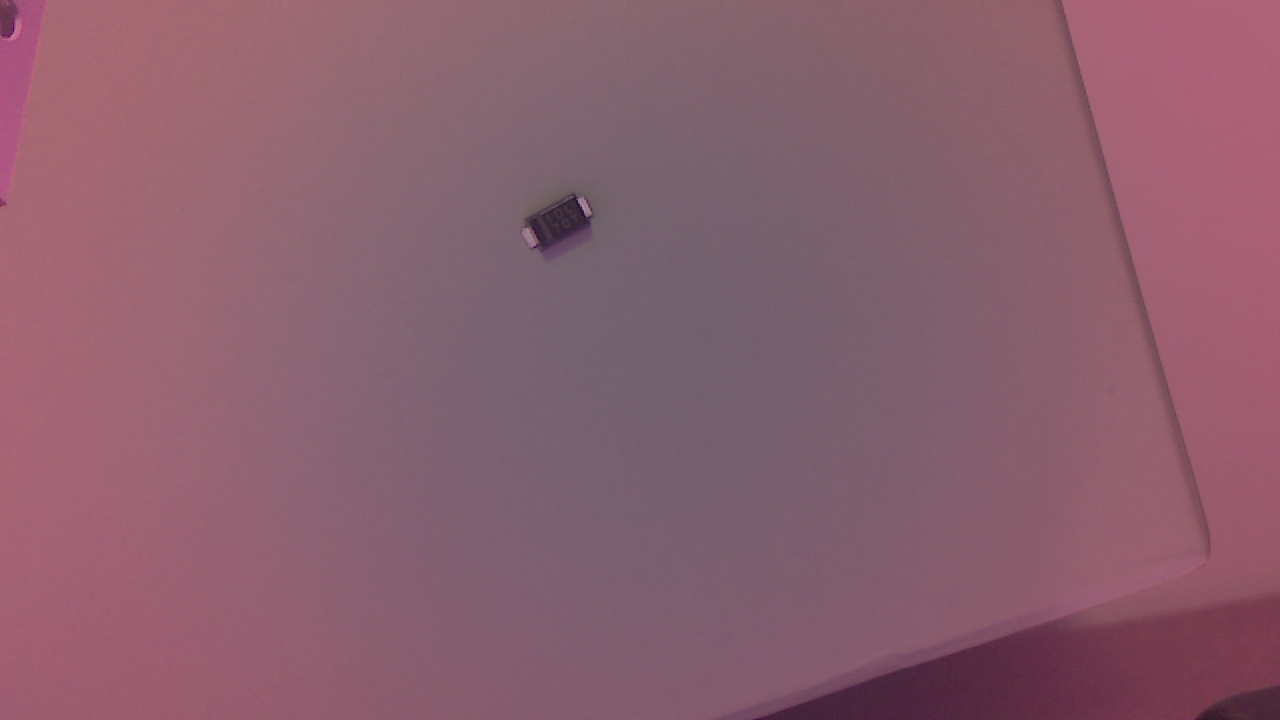Diode: (526, 201, 606, 255)
